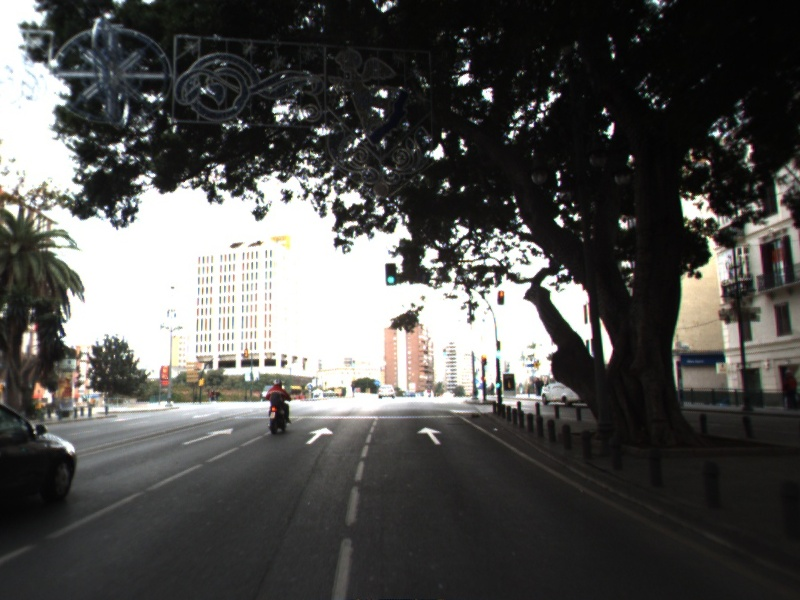STRAIGHT: (180, 426, 236, 447), (304, 425, 336, 446), (415, 425, 444, 446)
